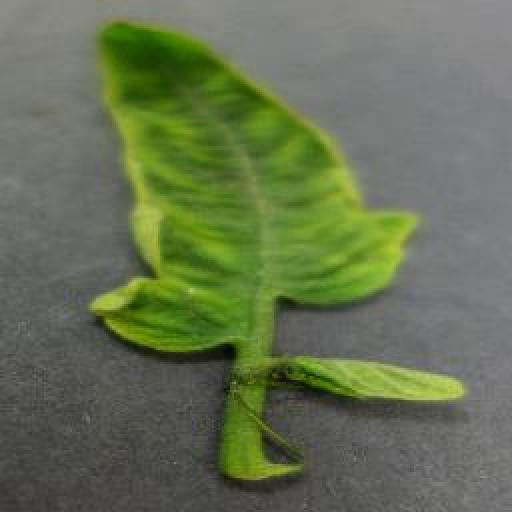disease_tomato: (88, 16, 422, 358), (285, 360, 471, 402)
